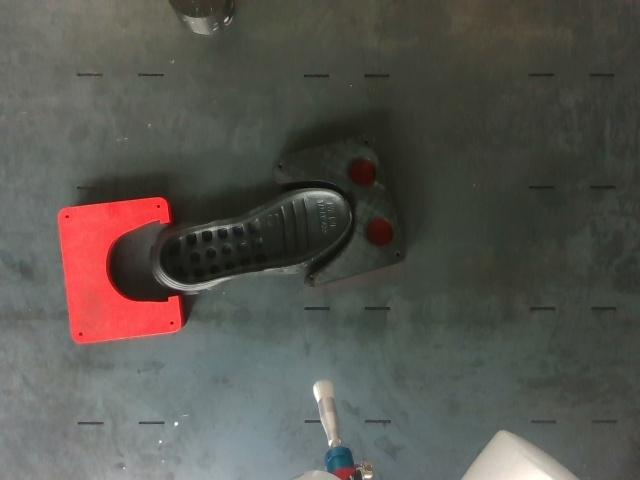shoes: (159, 190, 350, 284)
